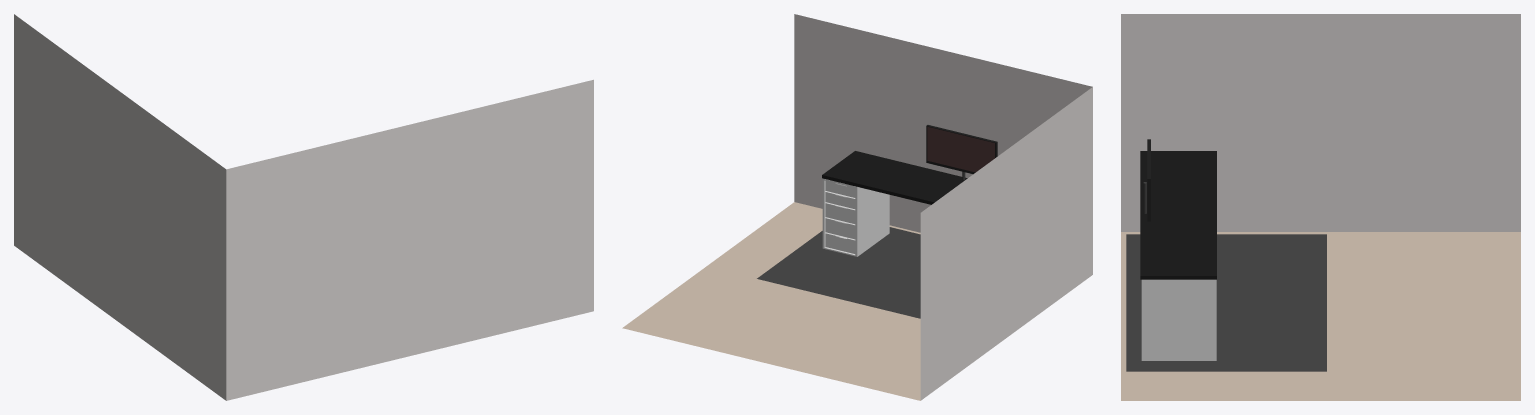
Rendered from work-place.glb.
3 views of the same model, side by side, from view 1: azimuth 30°, elevation 25°; view 2: azimuth 150°, elevation 25°; view 3: azimuth 270°, elevation 25° (orthographic). The views are drawn at different scales.
Parts seen in each view (by area): view 1: LeftWall, RightWall; view 2: RightWall, LeftWall, Floor, Plane, Countertop, Base, Cube.001, BoxBottom, BoxTop, Cube; view 3: RightWall, Floor, Plane, Countertop, Base.
Part boxes in pixels (bbox=[...]): LeftWall: bbox=[226, 79, 593, 400]; RightWall: bbox=[14, 14, 226, 400]; RightWall: bbox=[920, 87, 1092, 400]; LeftWall: bbox=[794, 14, 1092, 232]; Floor: bbox=[622, 202, 920, 400]; Plane: bbox=[757, 227, 920, 318]; Countertop: bbox=[822, 151, 967, 204]; Base: bbox=[822, 178, 889, 256]; Cube.001: bbox=[927, 126, 994, 172]; BoxBottom: bbox=[824, 203, 855, 253]; BoxTop: bbox=[824, 180, 855, 210]; Cube: bbox=[926, 125, 997, 174]; RightWall: bbox=[1121, 14, 1520, 231]; Floor: bbox=[1121, 232, 1520, 400]; Plane: bbox=[1126, 234, 1326, 371]; Countertop: bbox=[1140, 151, 1216, 279]; Base: bbox=[1141, 279, 1216, 360].
Bounding box in the file's own units: 14 × 8.43 × 14.
